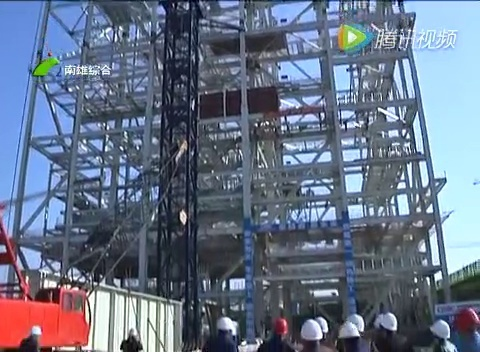red: (268, 315, 289, 338)
white: (299, 317, 323, 346), (337, 320, 360, 346), (428, 319, 451, 344), (377, 311, 397, 336), (216, 314, 232, 337)
